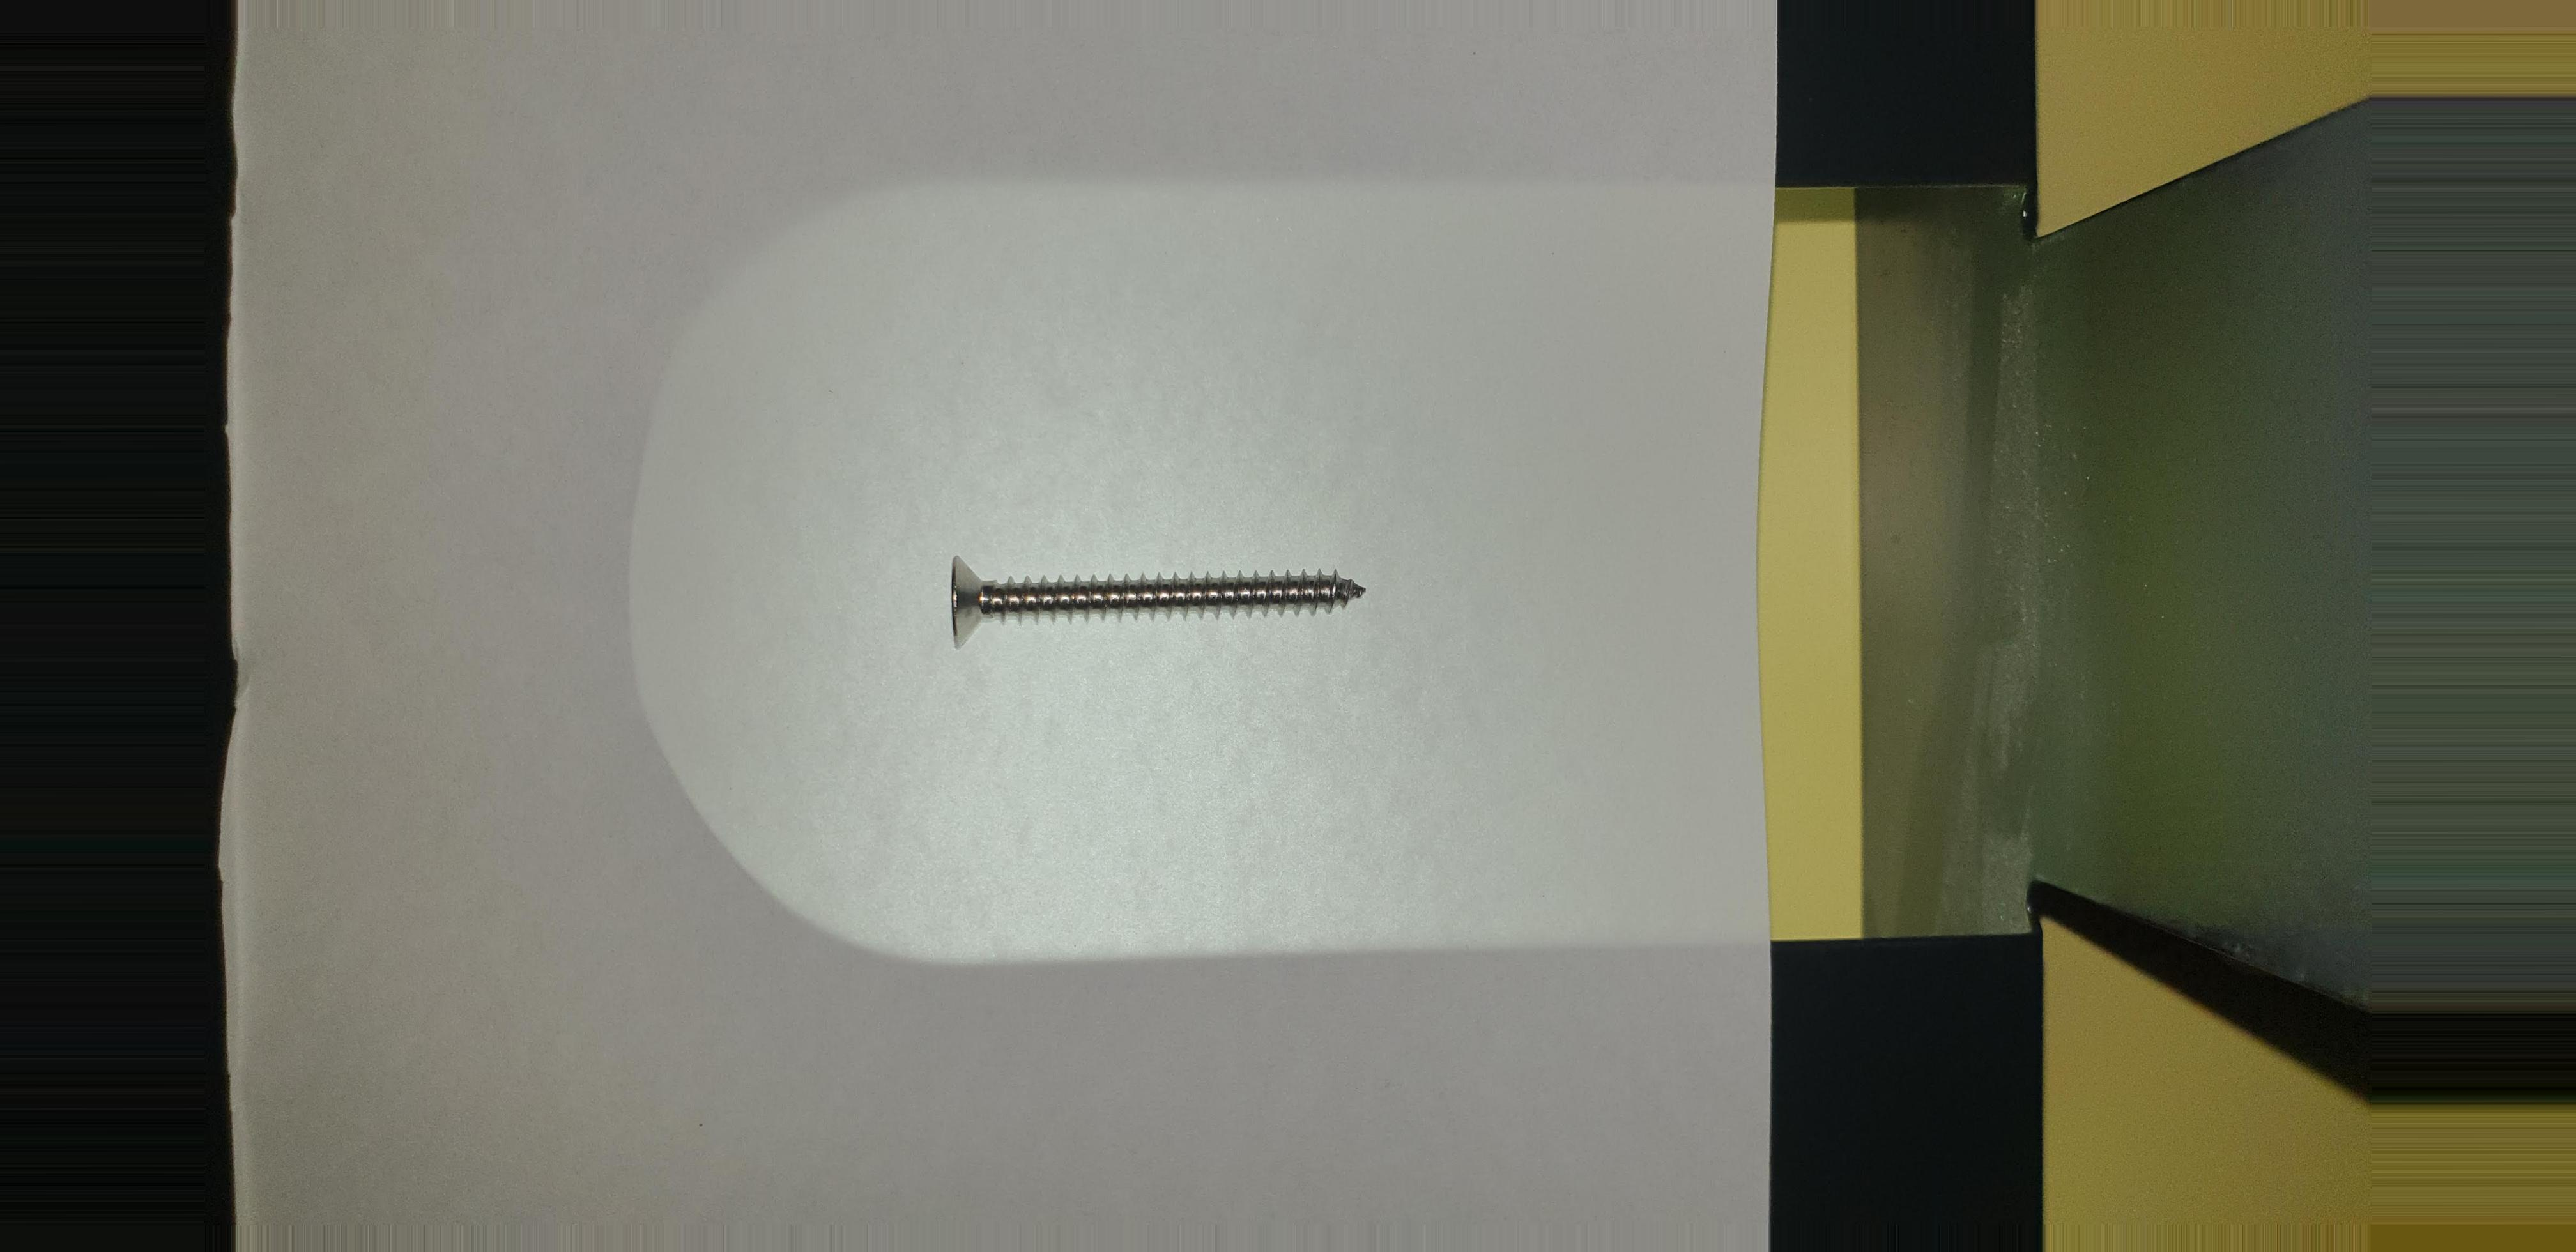fastener: (907, 483, 1462, 730)
